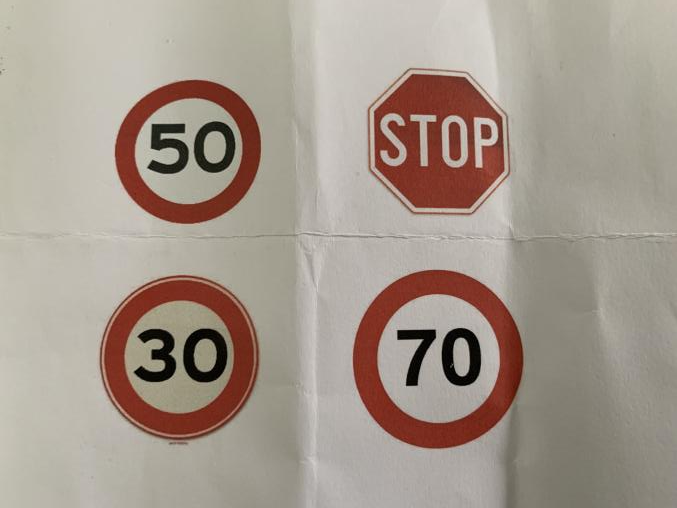30-limit: (86, 274, 264, 446)
50-limit: (107, 74, 268, 226)
70-limit: (348, 266, 527, 457)
stop-bord: (356, 62, 514, 223)
